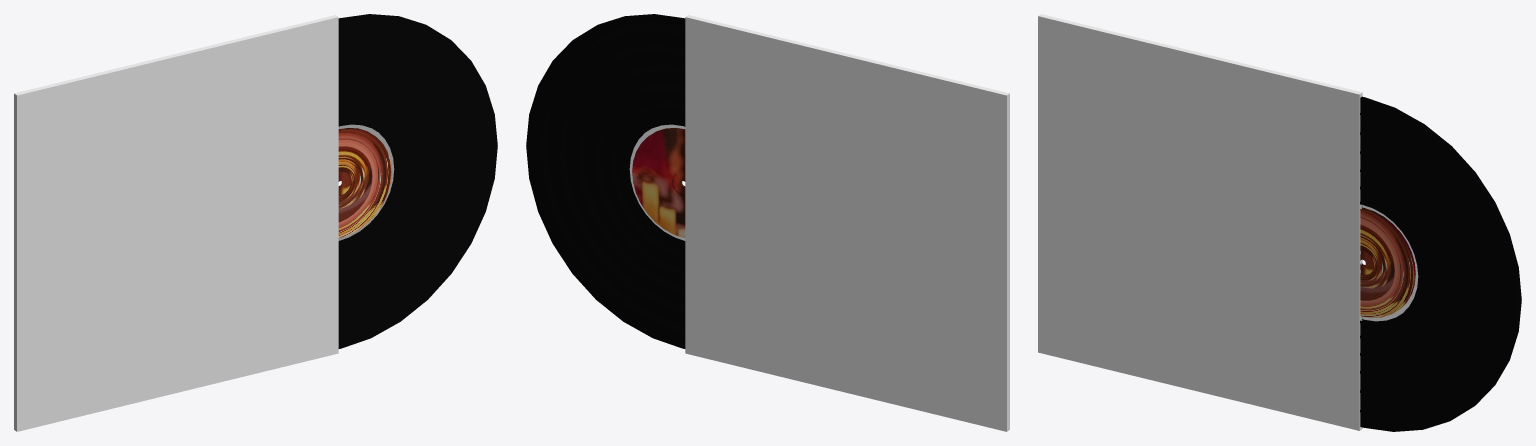
File: vinyl.gltf
3 renders of one model, left to right at view 1: azimuth 30°, elevation 25°; view 2: azimuth 150°, elevation 25°; view 3: azimuth 330°, elevation 25°, orthographic.
Parts seen in each view (by area): view 1: Shrinkwrap, Vinyl Disk; view 2: Shrinkwrap, Vinyl Disk; view 3: Shrinkwrap, Vinyl Disk.
Part boxes in pixels (bbox=[...]): Shrinkwrap: bbox=[14, 15, 338, 431]; Vinyl Disk: bbox=[338, 14, 497, 348]; Shrinkwrap: bbox=[685, 15, 1009, 431]; Vinyl Disk: bbox=[526, 14, 685, 348]; Shrinkwrap: bbox=[1038, 14, 1362, 430]; Vinyl Disk: bbox=[1360, 96, 1521, 431].
Size of the model in its own units: 0.4717 by 0.3149 by 0.00501.
6 materials, 3 textured.
